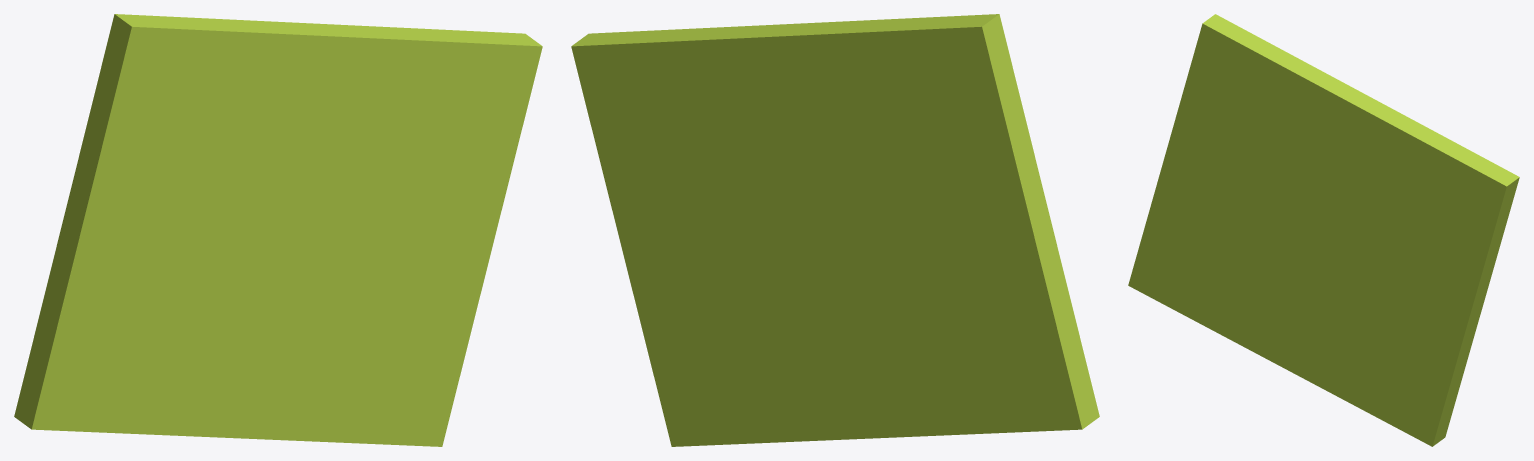
The picture shows the model from 3 angles, left to right: view 1: azimuth 30°, elevation 25°; view 2: azimuth 150°, elevation 25°; view 3: azimuth 330°, elevation 25°; orthographic projection. The views are drawn at different scales.
Visible parts, largest first — view 1: osm-way27917482-F0; view 2: osm-way27917482-F0; view 3: osm-way27917482-F0.
Boxes of the visible parts, <box> form: osm-way27917482-F0: <box>14,14,542,446</box>; osm-way27917482-F0: <box>571,14,1099,446</box>; osm-way27917482-F0: <box>1128,14,1519,446</box>.
Bounding box in the file's own units: 2.53 × 2.35 × 0.15.
